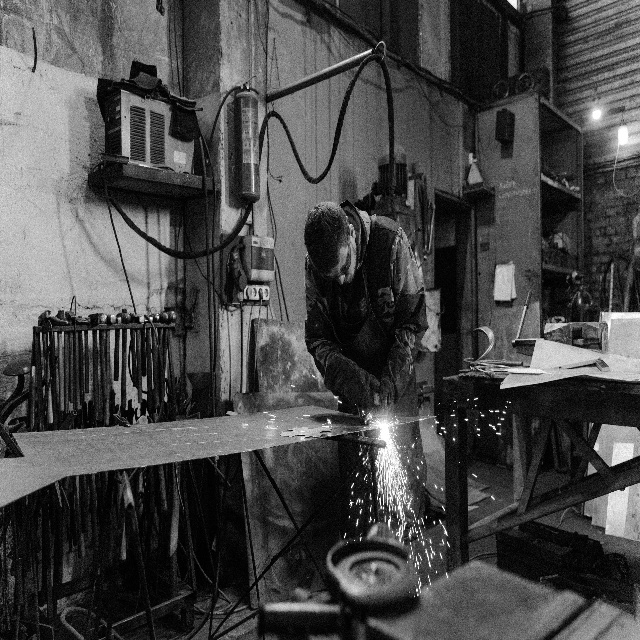Gafas: (319, 214, 351, 279)
Guantes: (323, 349, 381, 412), (373, 347, 410, 417)
